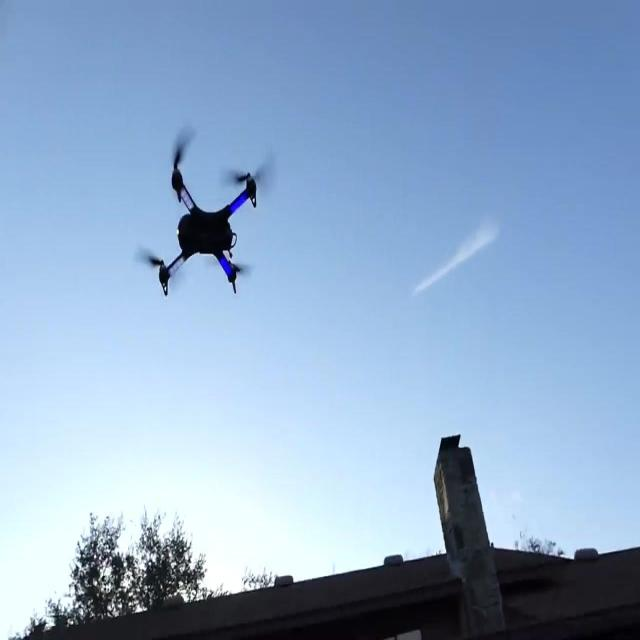drone: (146, 142, 266, 297)
